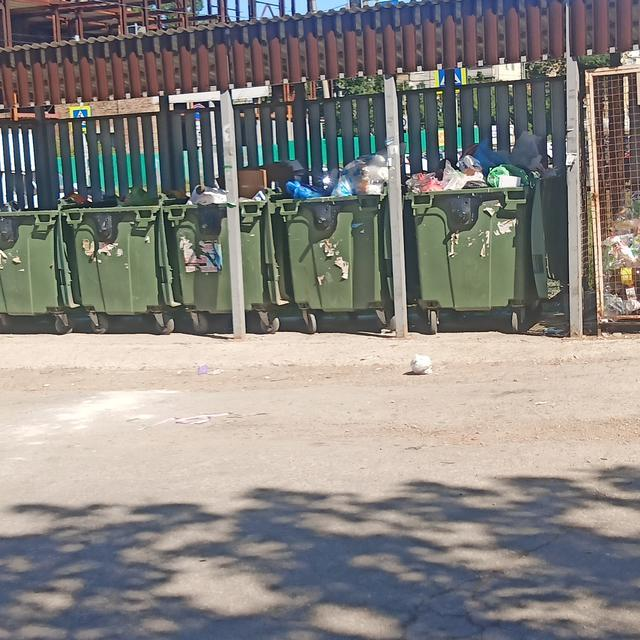Trash_Can_Empty: (64, 206, 166, 315), (0, 207, 68, 317)
Trash_Can_Full: (407, 140, 532, 311), (276, 150, 388, 310), (167, 167, 269, 313)
